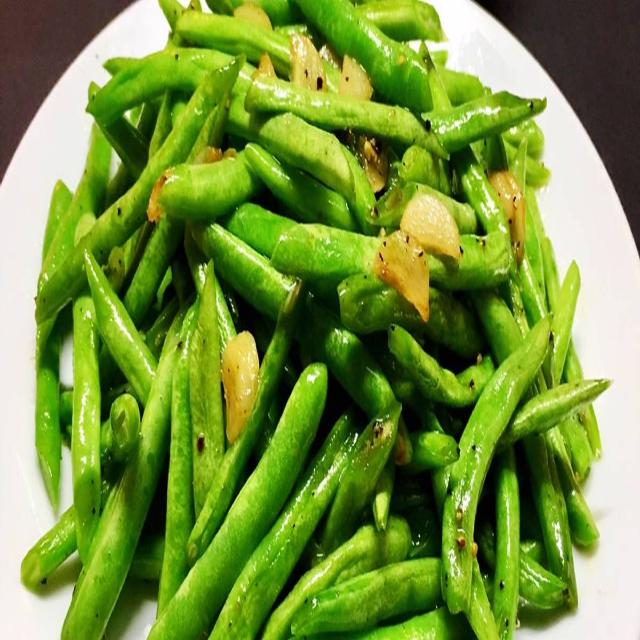dau que: (20, 0, 610, 639)
